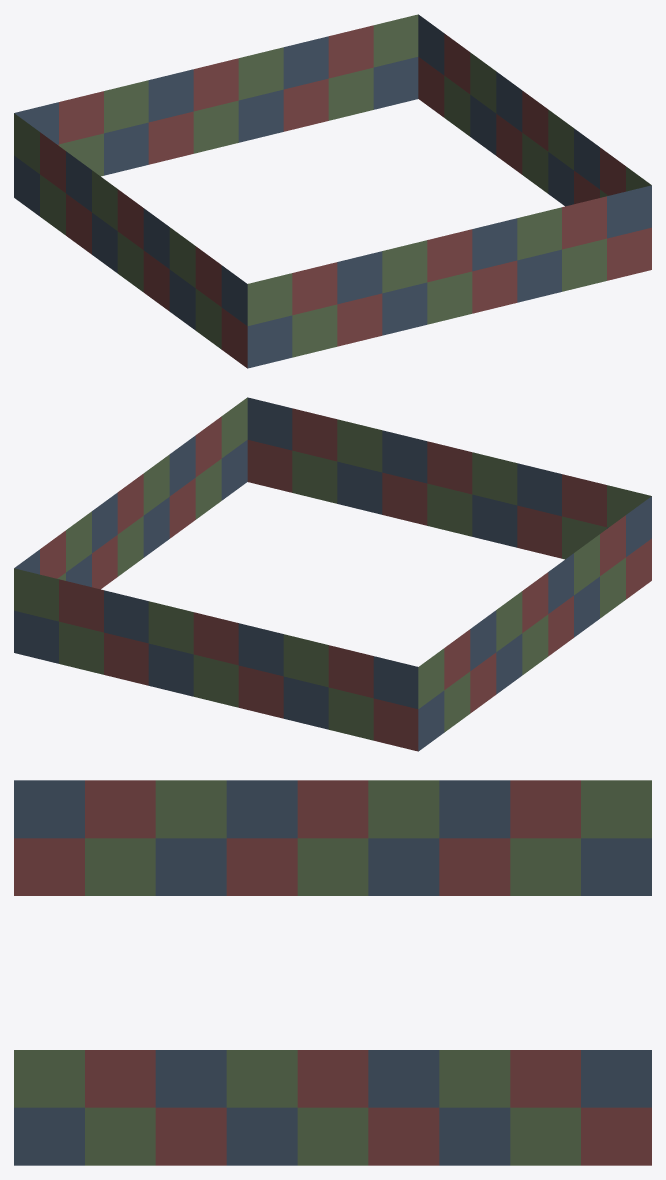
File: wall.fbx
The picture shows the model from 3 angles, top to bottom: view 1: azimuth 30°, elevation 25°; view 2: azimuth 150°, elevation 25°; view 3: azimuth 270°, elevation 25°; orthographic projection. The views are drawn at different scales.
Visible parts, largest first — view 1: pPlane1; view 2: pPlane1; view 3: pPlane1.
Part boxes in pixels (bbox=[...]): pPlane1: bbox=[14, 14, 651, 368]; pPlane1: bbox=[14, 397, 651, 751]; pPlane1: bbox=[14, 780, 651, 1165].
Size of the model in its own units: 100 by 20 by 100.
